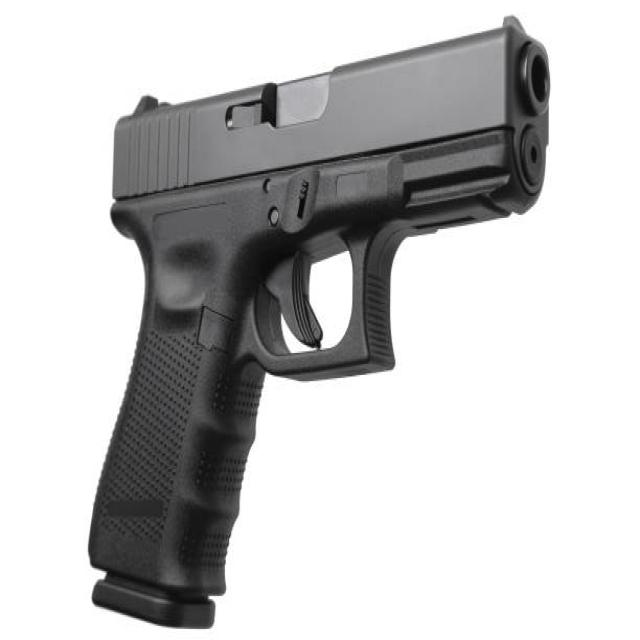pistol: (76, 9, 562, 635)
